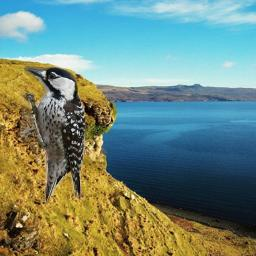Woodpecker: (18, 66, 85, 205)
